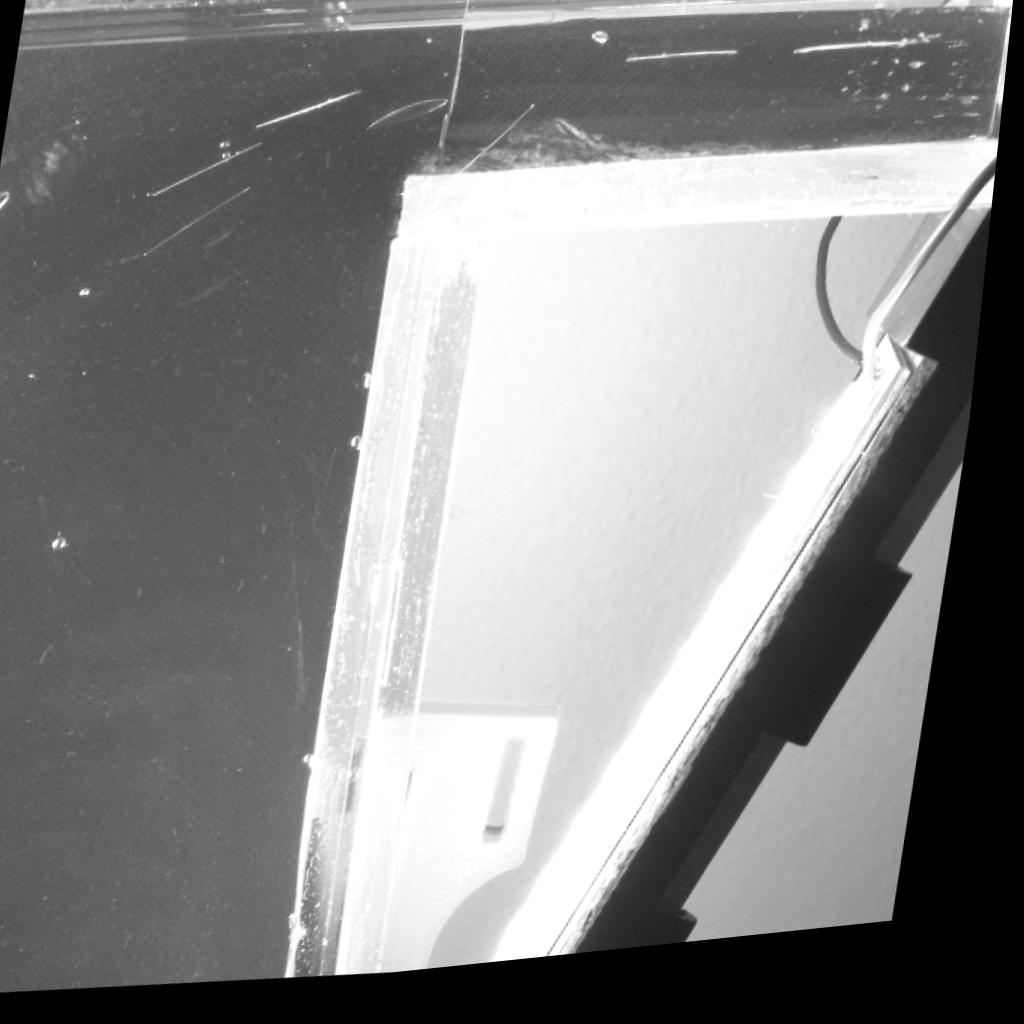Fiber: (148, 190, 256, 268), (155, 147, 266, 204), (459, 113, 539, 190), (261, 96, 368, 133), (625, 64, 742, 78), (797, 59, 930, 71)
